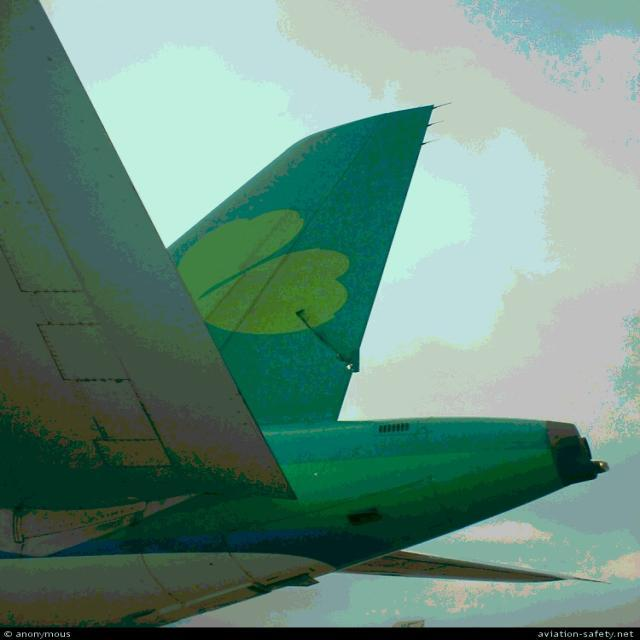crack: (291, 305, 367, 380)
